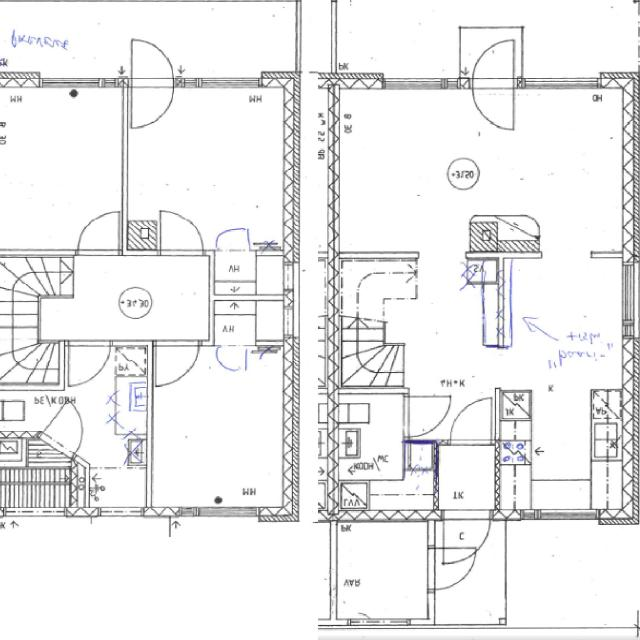door: (42, 406, 92, 456), (444, 511, 490, 565), (132, 36, 174, 88), (473, 78, 514, 130), (473, 37, 514, 89), (132, 78, 174, 128), (161, 208, 203, 256), (428, 548, 477, 589), (156, 341, 198, 387), (78, 210, 119, 256), (69, 341, 110, 387), (404, 396, 450, 436), (452, 402, 491, 444), (220, 221, 249, 255), (221, 341, 247, 371)
